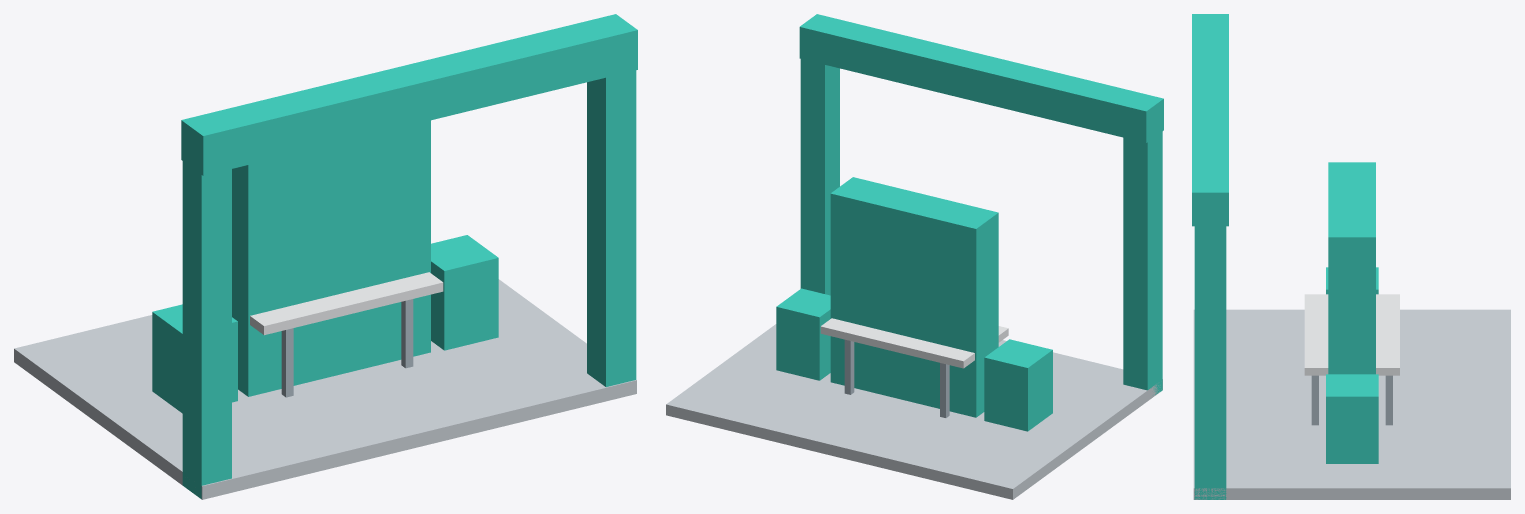
The picture shows the model from 3 angles, left to right: view 1: azimuth 30°, elevation 25°; view 2: azimuth 150°, elevation 25°; view 3: azimuth 270°, elevation 25°; orthographic projection. The views are drawn at different scales.
Parts seen in each view (by area): view 1: Exhibition Booth Concept; view 2: Exhibition Booth Concept; view 3: Exhibition Booth Concept.
Part boxes in pixels (x1,y1,x2,y2): Exhibition Booth Concept: (14, 14, 637, 499); Exhibition Booth Concept: (666, 14, 1163, 499); Exhibition Booth Concept: (1192, 14, 1510, 499).
Size of the model in its own units: 4 by 3.2 by 3.01.
